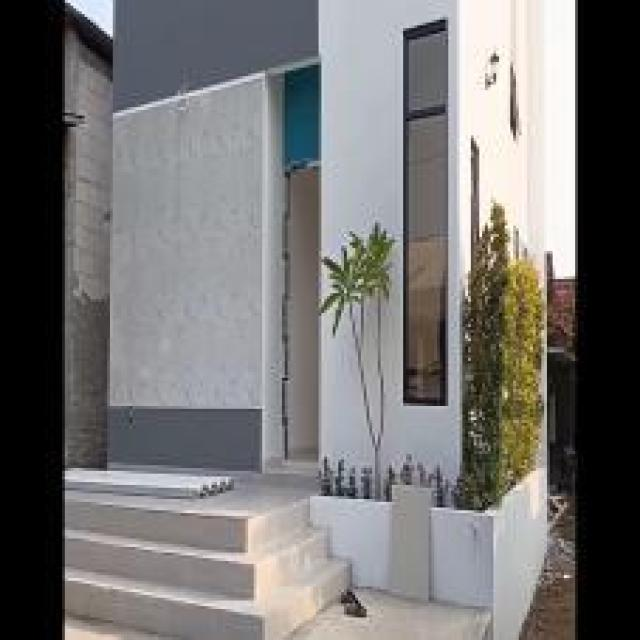upstair: (66, 489, 277, 638)
